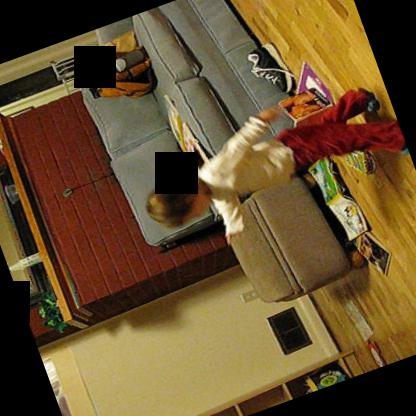backpack: (88, 66, 157, 99)
